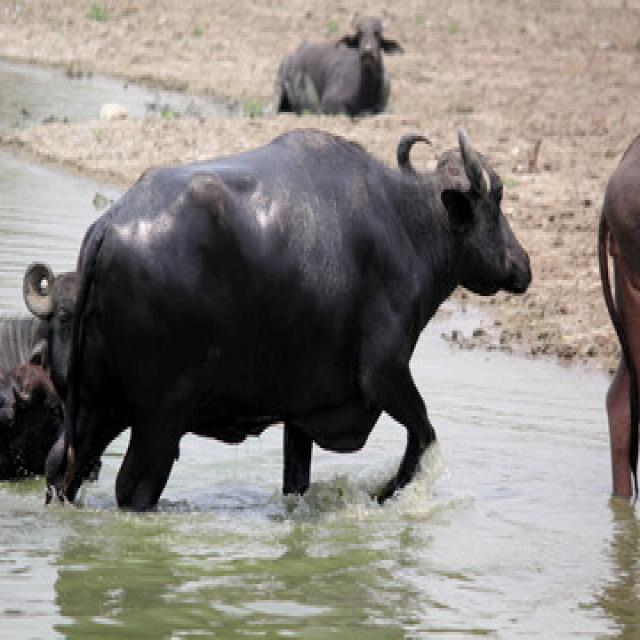Buffalo: (60, 115, 539, 500)
